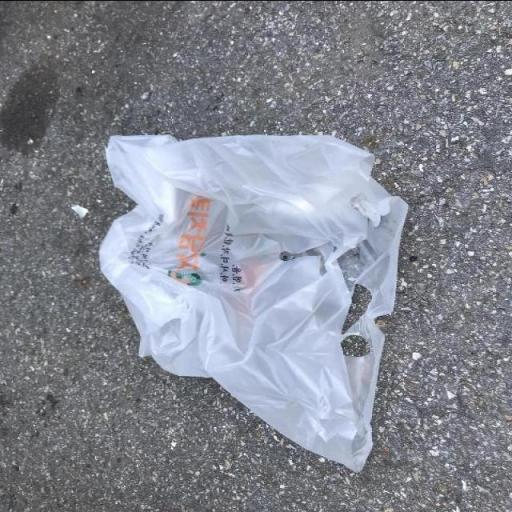plastic-bag: (98, 130, 414, 471)
